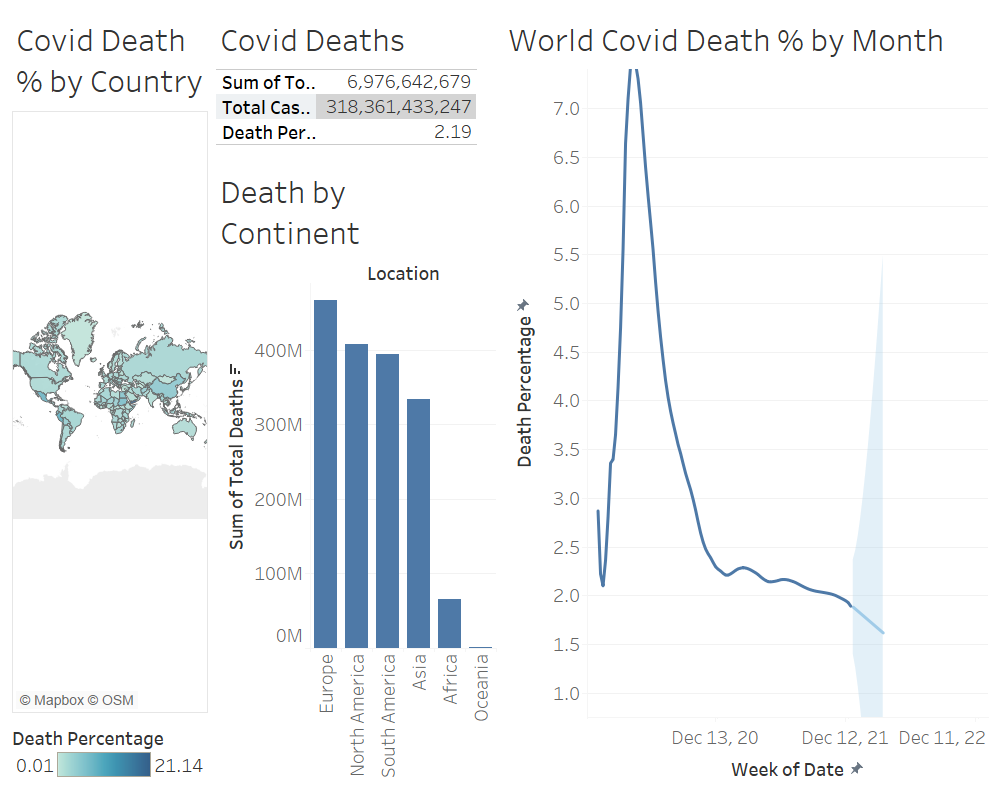

The dashboard page shown, as its layout file describes it:
{"tool":"tableau","page":{"name":"Dashboard 1","canvas":[1000,800],"ordinal":0},"visuals":[{"type":"worksheet","title":"Sheet 3","mark":"Automatic","box":[8,8,203.8,709]},{"type":"worksheet","title":"Sheet 1","mark":"Automatic","box":[211.8,8,288.2,152]},{"type":"worksheet","title":"Sheet 4","mark":"Automatic","rows":["Calculation_1799751060140171267"],"cols":["date"],"box":[500,8,492,784]},{"type":"worksheet","title":"Sheet 2","mark":"Automatic","rows":["total_deaths"],"cols":["location"],"box":[211.8,160,288.2,632]},{"type":"legend","title":"Sheet 3","param":"[federated.0jgpuct01unkrb1cb081u1odrplp].[usr:Calculation_1799751060140171267:qk","box":[8,717,203.8,75]}]}

Visuals, with their boxes in screenshot pixels (x1, y1, x2, y2), scaled from the page's 1000x800 canvas onto the 1000x800 screenshot:
"Sheet 3" worksheet: pyautogui.locateOnScreen(8, 8, 212, 717)
"Sheet 1" worksheet: pyautogui.locateOnScreen(212, 8, 500, 160)
"Sheet 4" worksheet: pyautogui.locateOnScreen(500, 8, 992, 792)
"Sheet 2" worksheet: pyautogui.locateOnScreen(212, 160, 500, 792)
"Sheet 3" legend: pyautogui.locateOnScreen(8, 717, 212, 792)
